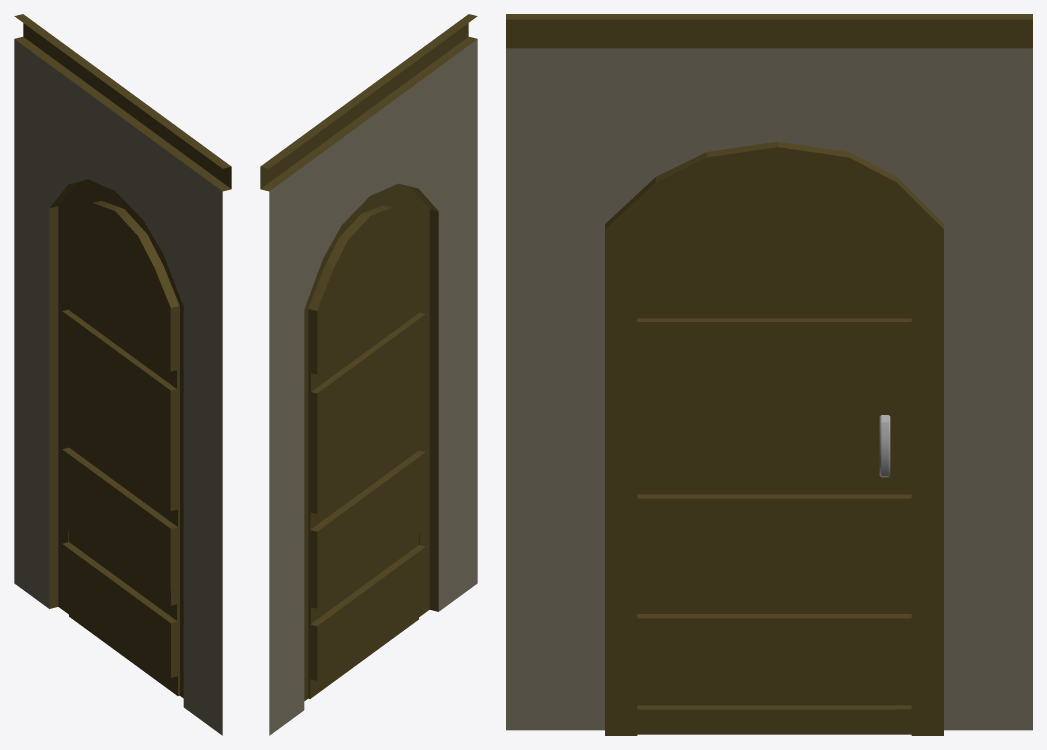
The model's file is GB_Floor1_Door.fbx.
3 renders of one model, left to right at view 1: azimuth 30°, elevation 25°; view 2: azimuth 150°, elevation 25°; view 3: azimuth 270°, elevation 25°, orthographic. The views are drawn at different scales.
Visible parts, largest first — view 1: Door3; view 2: Door3; view 3: Door3.
Part boxes in pixels (bbox=[...]): Door3: bbox=[14, 14, 231, 735]; Door3: bbox=[260, 14, 477, 735]; Door3: bbox=[506, 14, 1032, 735].
Size of the model in its own units: 0.0653 by 3 by 2.
